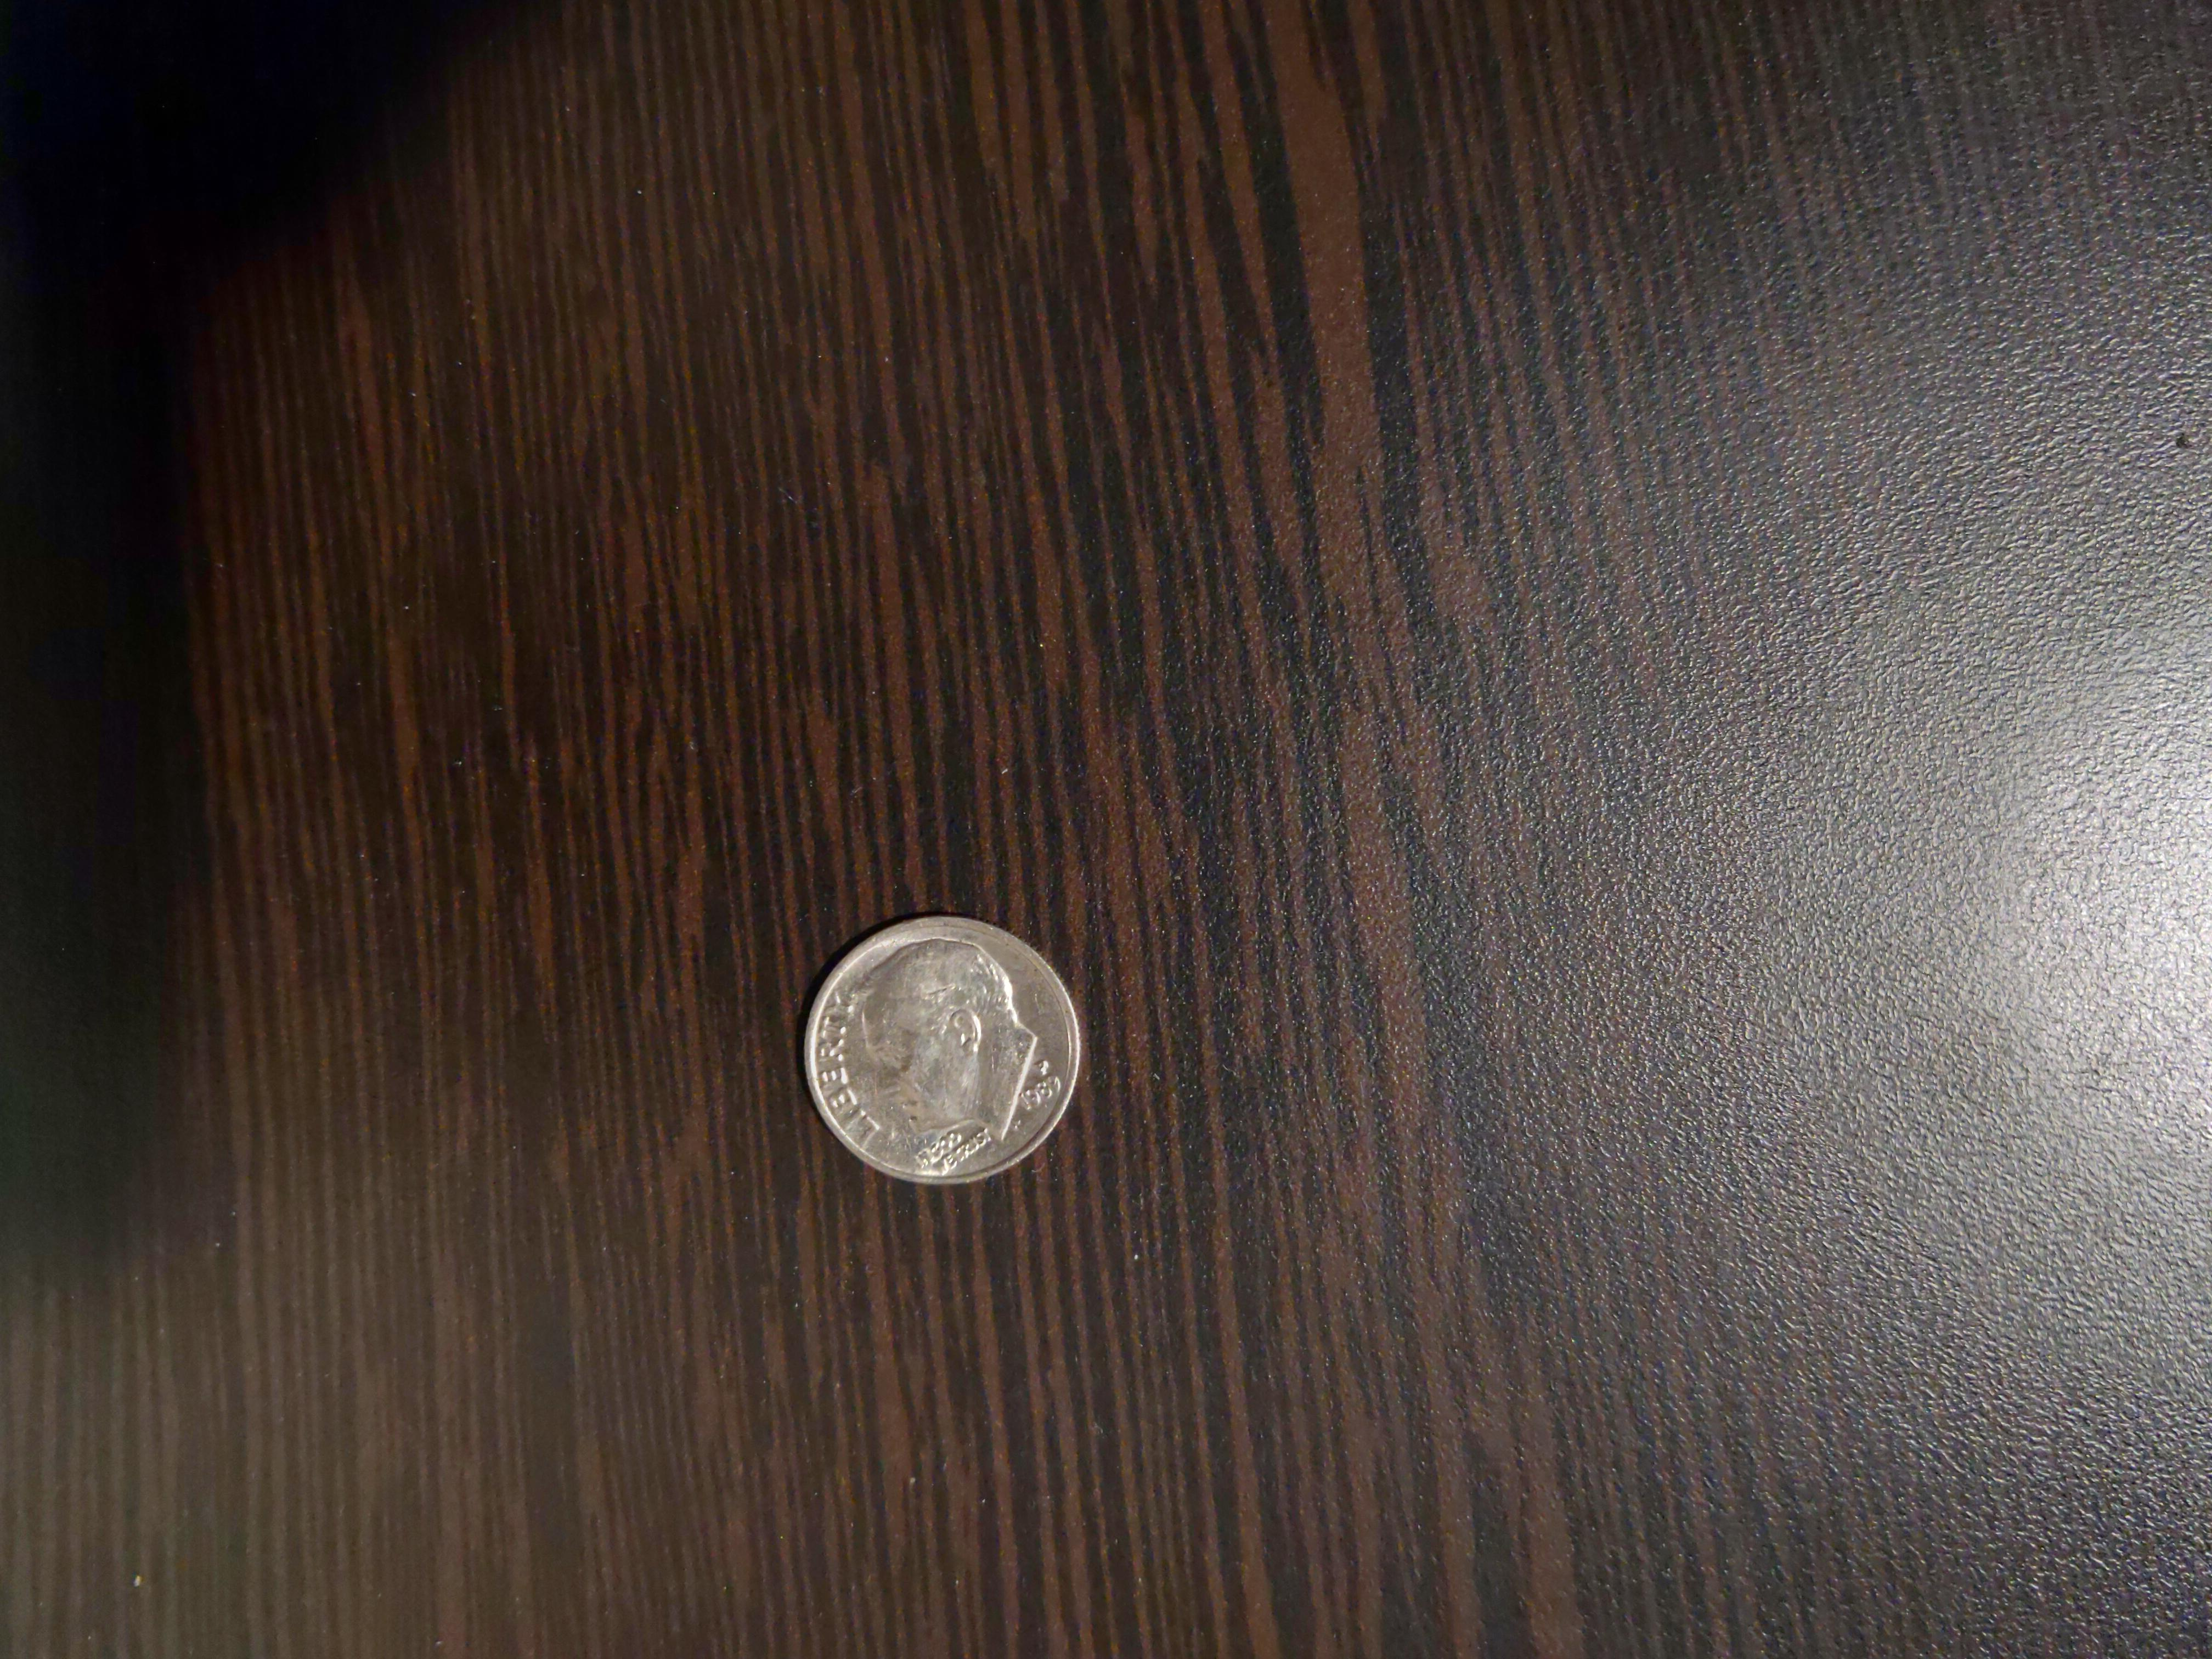Dime: (799, 911, 1087, 1187)
